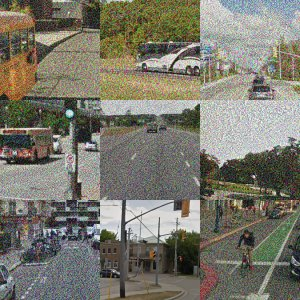公車: (1, 10, 44, 99), (132, 36, 201, 75), (1, 126, 57, 164)
汽車: (1, 257, 19, 300), (246, 80, 280, 102), (143, 119, 161, 135)
腳踏車: (232, 231, 257, 281)
